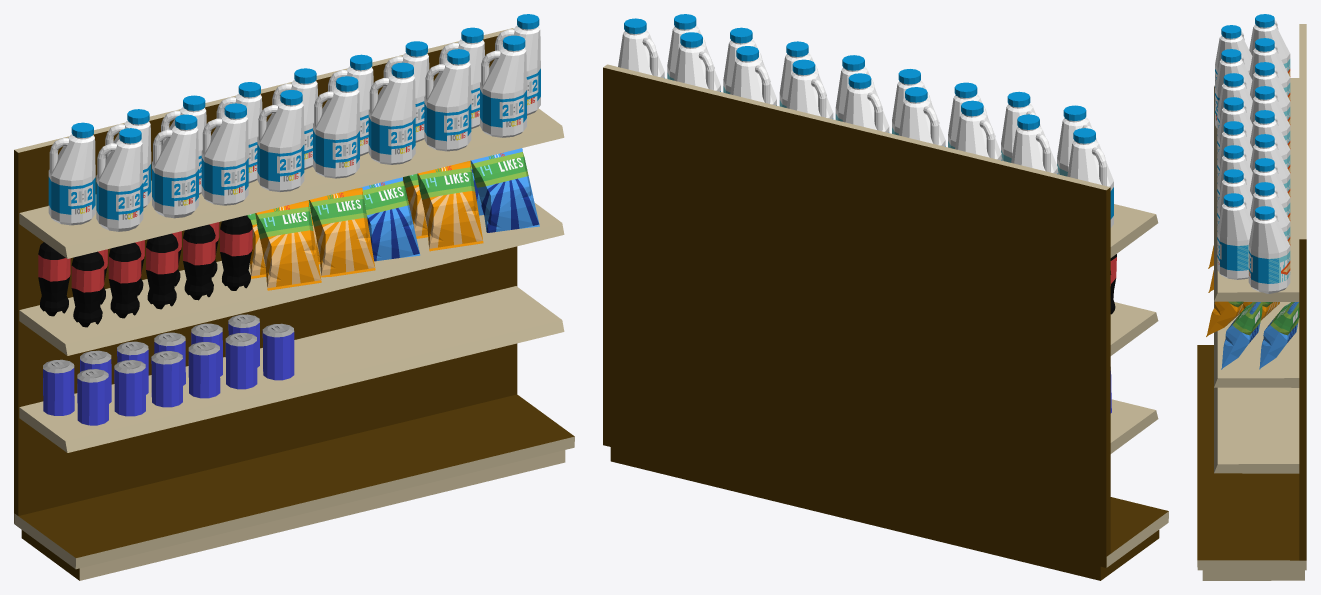
File: bottle1.fbx
3 renders of one model, left to right at view 1: azimuth 30°, elevation 25°; view 2: azimuth 150°, elevation 25°; view 3: azimuth 270°, elevation 25°, orthographic. The views are drawn at different scales.
Visible parts, largest first — view 1: group478861069, group688375807.009, group688375807.010, group688375807.001, group688375807.002, group688375807.006, group688375807.005, group688375807, group688375807.003, group688375807.004; view 2: group478861069; view 3: group478861069.
Boxes of the visible parts, box(x1,y1,x2,y2) form: group478861069: box(14, 14, 574, 580); group688375807.009: box(225, 333, 257, 389); group688375807.010: box(262, 323, 294, 380); group688375807.001: box(77, 369, 108, 425); group688375807.002: box(114, 360, 145, 416); group688375807.006: box(188, 342, 220, 398); group688375807.005: box(151, 351, 182, 407); group688375807: box(43, 359, 74, 415); group688375807.003: box(80, 350, 111, 403); group688375807.004: box(117, 341, 148, 394); group478861069: box(603, 14, 1168, 580); group478861069: box(1197, 14, 1306, 580).
Bounding box in the file's own units: 2709 × 2163 × 578.
